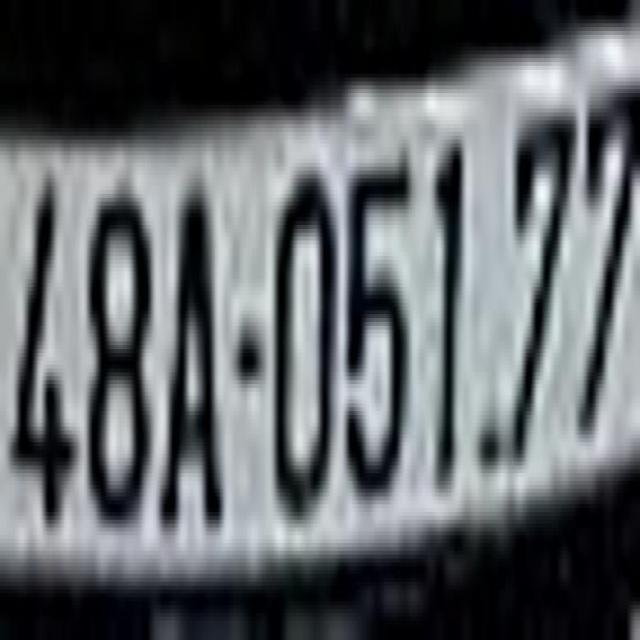0: (275, 175, 335, 512)
1: (430, 136, 458, 488)
4: (15, 183, 70, 532)
5: (348, 151, 408, 512)
7: (512, 112, 574, 446), (586, 89, 640, 431)
8: (86, 182, 149, 543)
A: (165, 182, 219, 543)
